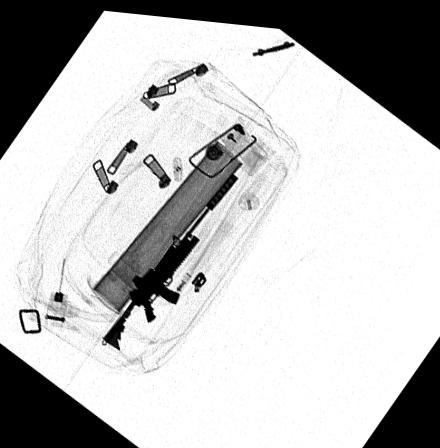Gun: (97, 166, 240, 348)
